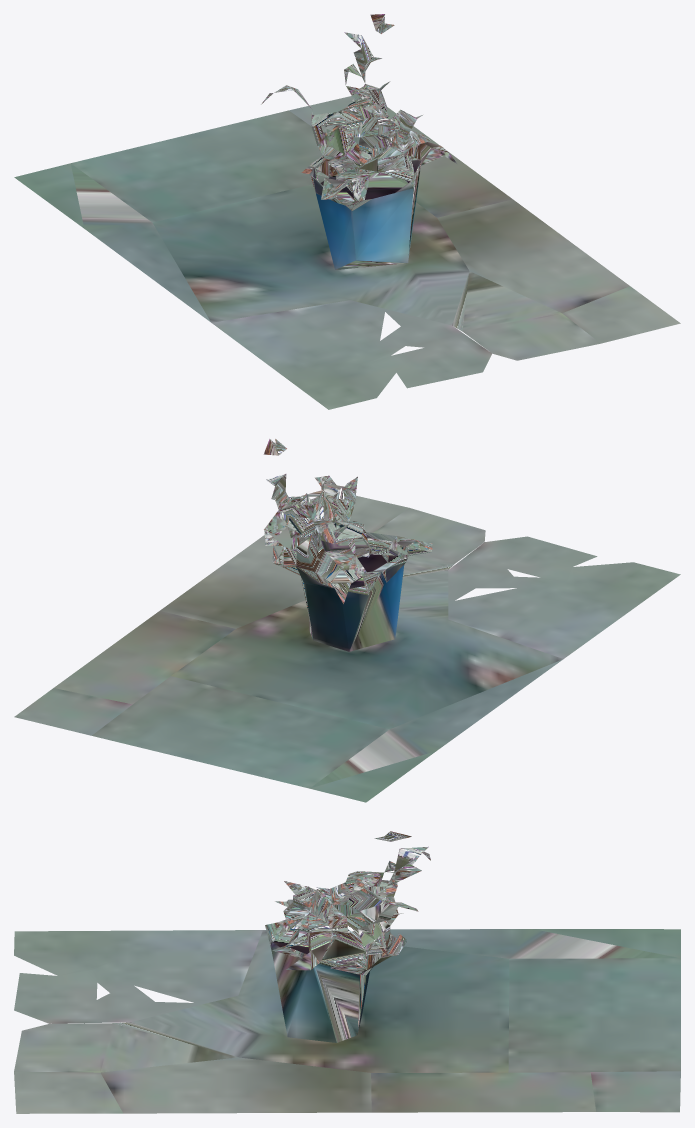
Rendered from hoa-giay-chau.glb.
3 renders of one model, top to bottom at view 1: azimuth 30°, elevation 25°; view 2: azimuth 150°, elevation 25°; view 3: azimuth 270°, elevation 25°, orthographic. The views are drawn at different scales.
Visible parts, largest first — view 1: Object_2; view 2: Object_2; view 3: Object_2.
Part boxes in pixels (left/top/right/bottom): Object_2: left=14, top=14, right=680, bottom=409; Object_2: left=14, top=439, right=680, bottom=802; Object_2: left=14, top=831, right=680, bottom=1113.
Bounding box in the file's own units: 0.6467 × 0.366 × 1.
Materials: 1 (1 with a texture image).
